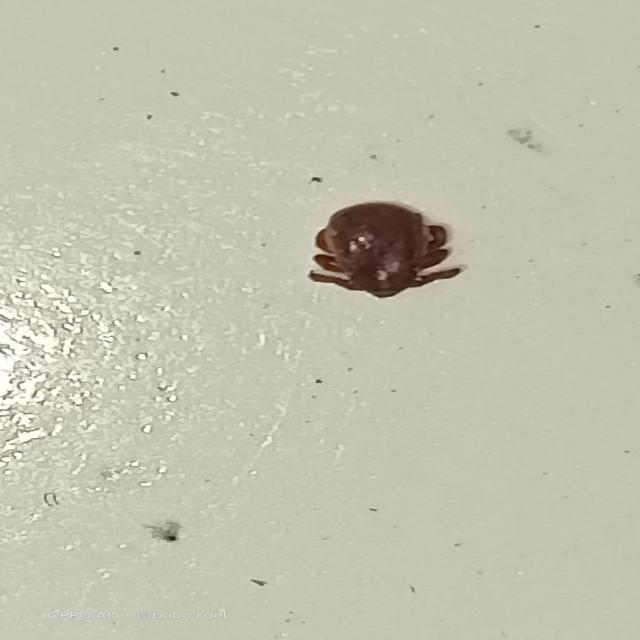Rhipicephalus Sanguineus-M: (307, 202, 464, 301)
